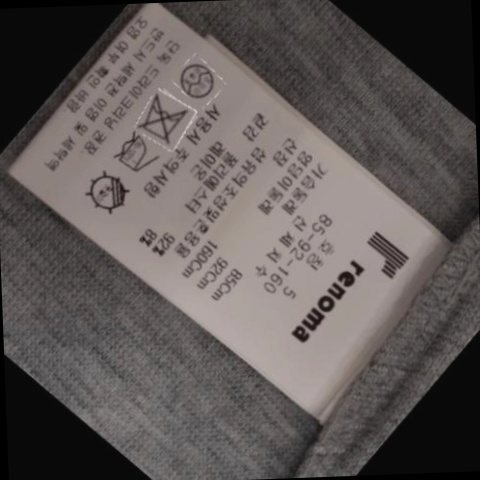DN_wash: (139, 97, 192, 141)
dry_clean_petrol_only: (178, 59, 219, 99)
iron_low: (112, 135, 158, 175)
line_dry_in_shade: (86, 173, 136, 214)
